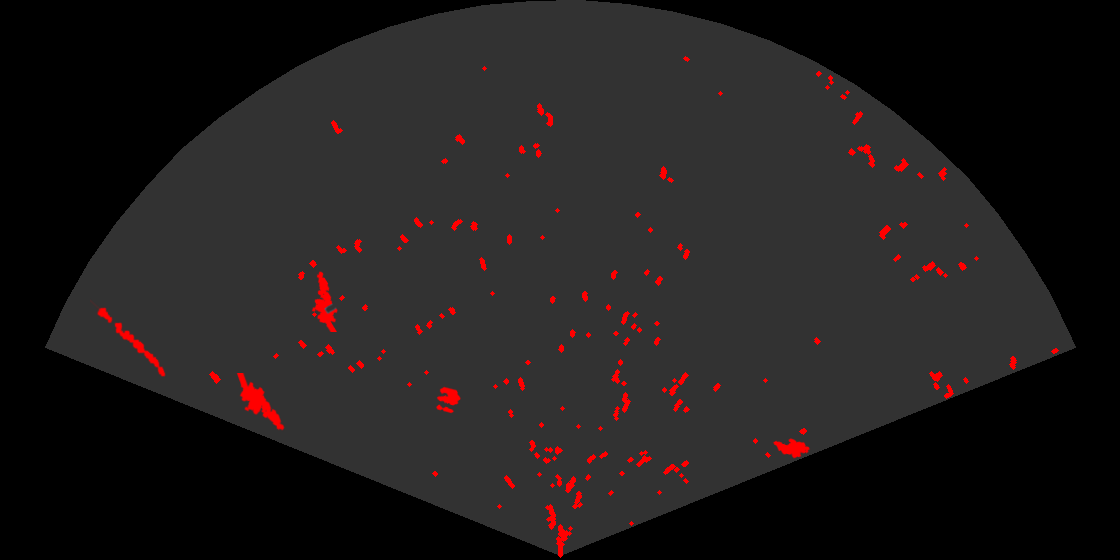AUV: (771, 437, 812, 460)
ball: (434, 385, 462, 415)
chain: (90, 298, 167, 378)
frogman: (235, 373, 286, 432), (310, 270, 339, 332)
